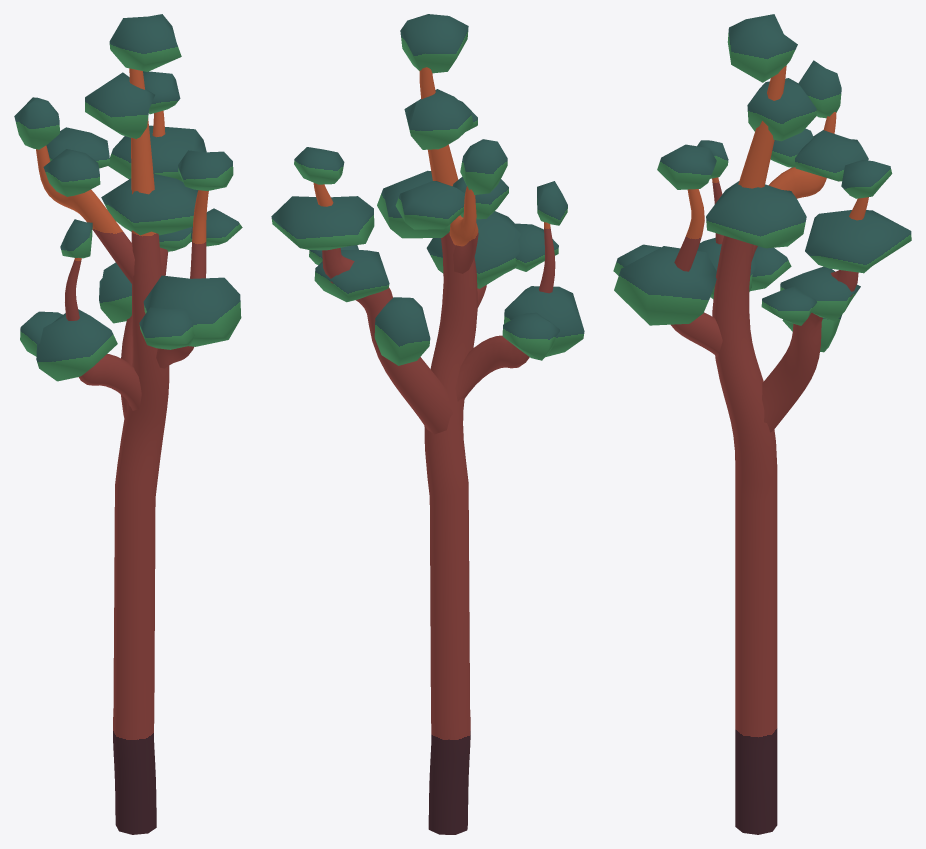
Rendered from tree02.glb.
3 renders of one model, left to right at view 1: azimuth 30°, elevation 25°; view 2: azimuth 150°, elevation 25°; view 3: azimuth 270°, elevation 25°, orthographic.
Parts seen in each view (by area): view 1: Tree02; view 2: Tree02; view 3: Tree02.
Part boxes in pixels (x1,y1,x2,y2): Tree02: (14,14,242,834); Tree02: (271,14,584,834); Tree02: (613,14,911,834).
Bounding box in the file's own units: 13.76 × 44.15 × 14.71.
1 material, 1 textured.
